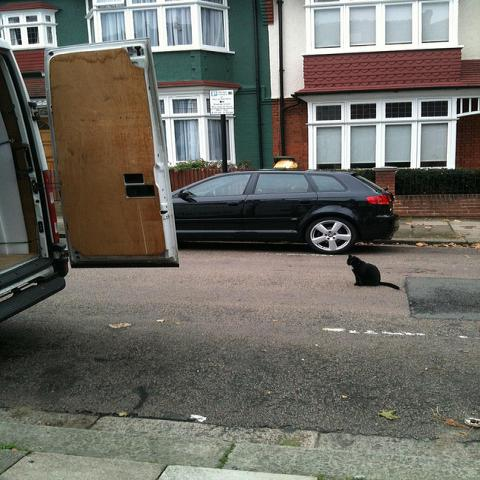car: (0, 38, 180, 320), (172, 171, 399, 253)
